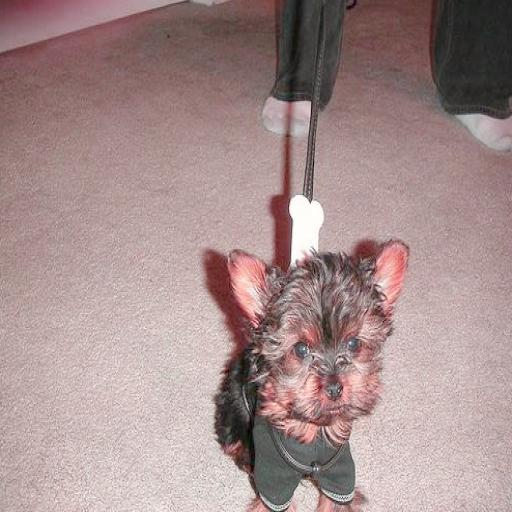dog_face: (219, 234, 411, 427)
